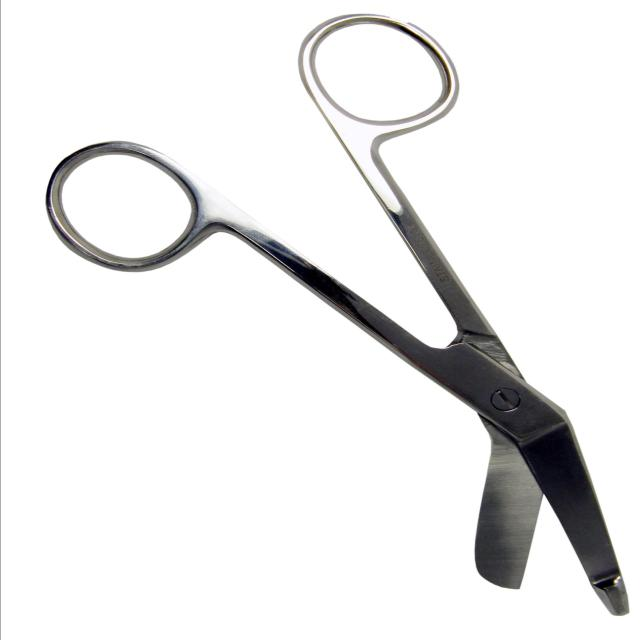Gunting: (27, 0, 640, 621)
